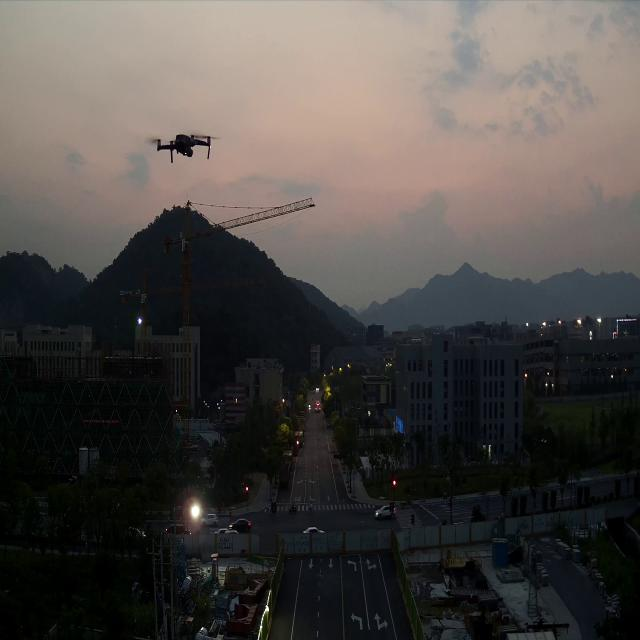UAV: (156, 132, 212, 163)
